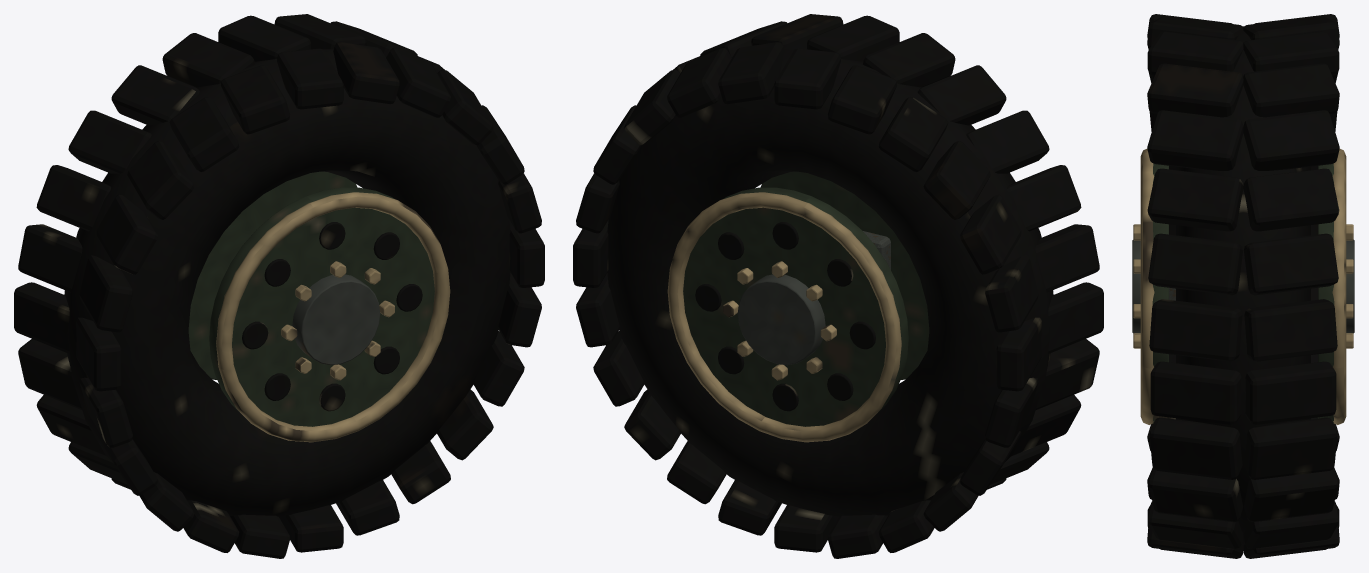
File: 37_sand_tyre.glb
3 views of the same model, side by side, from view 1: azimuth 30°, elevation 25°; view 2: azimuth 150°, elevation 25°; view 3: azimuth 270°, elevation 25° (orthographic). The views are drawn at different scales.
Parts seen in each view (by area): view 1: Moving_Wheel; view 2: Moving_Wheel; view 3: Moving_Wheel.
Boxes of the visible parts, box(x1,y1,x2,y2) form: Moving_Wheel: box(14, 14, 544, 558); Moving_Wheel: box(573, 14, 1103, 558); Moving_Wheel: box(1132, 14, 1354, 558).
Bounding box in the file's own units: 1.23 × 1.19 × 0.495.
4 materials, 4 textured.
